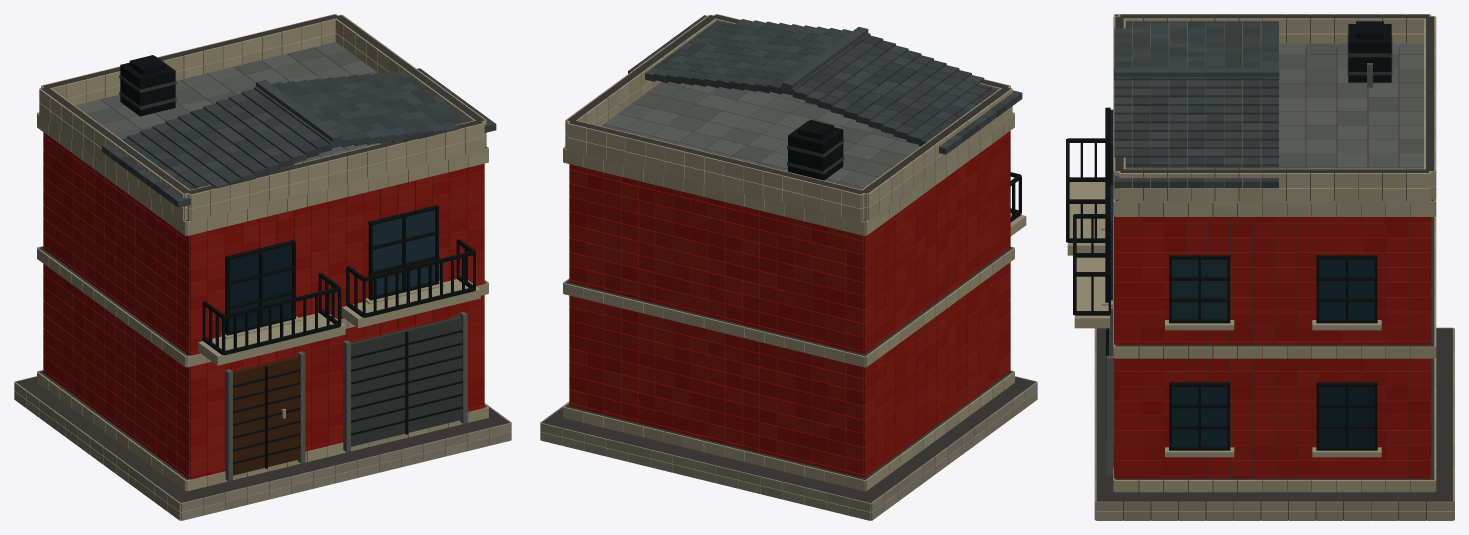
Rendered from SM_Mapa_047.fbx.
3 views of the same model, side by side, from view 1: azimuth 30°, elevation 25°; view 2: azimuth 150°, elevation 25°; view 3: azimuth 270°, elevation 25° (orthographic). The views are drawn at different scales.
Visible parts, largest first — view 1: SM_Mapa_047; view 2: SM_Mapa_047; view 3: SM_Mapa_047.
Part boxes in pixels (box(x1,y1,x2,y2)): SM_Mapa_047: box(14, 14, 511, 520); SM_Mapa_047: box(540, 14, 1037, 520); SM_Mapa_047: box(1066, 14, 1454, 520).
Size of the model in its own units: 8 by 7.53 by 7.88.
